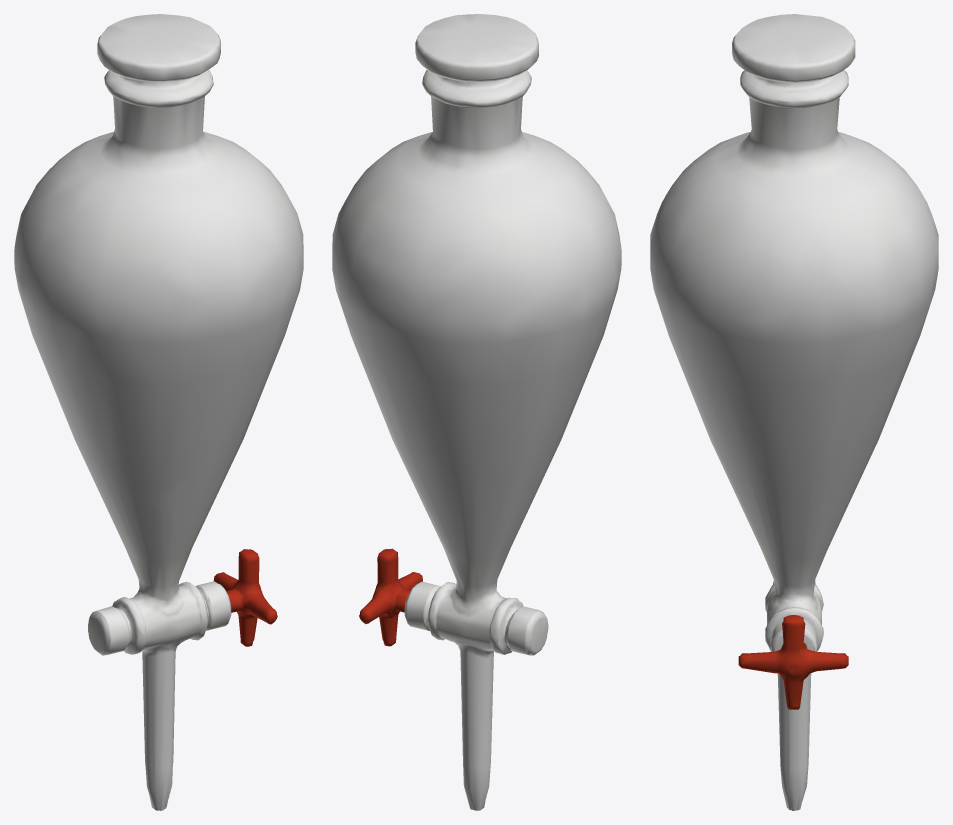
The picture shows the model from 3 angles, left to right: view 1: azimuth 30°, elevation 25°; view 2: azimuth 150°, elevation 25°; view 3: azimuth 270°, elevation 25°; orthographic projection.
Parts seen in each view (by area): view 1: tripo_node_fc8fb0d6-19f4-4d9a-8e71-c8f0d154d739; view 2: tripo_node_fc8fb0d6-19f4-4d9a-8e71-c8f0d154d739; view 3: tripo_node_fc8fb0d6-19f4-4d9a-8e71-c8f0d154d739.
Boxes of the visible parts, x1=… form: tripo_node_fc8fb0d6-19f4-4d9a-8e71-c8f0d154d739: x1=14, y1=14, x2=303, y2=810; tripo_node_fc8fb0d6-19f4-4d9a-8e71-c8f0d154d739: x1=332, y1=14, x2=621, y2=810; tripo_node_fc8fb0d6-19f4-4d9a-8e71-c8f0d154d739: x1=650, y1=14, x2=938, y2=810.
Bounding box in the file's own units: 0.3418 × 0.998 × 0.3379.
1 material, 1 textured.
